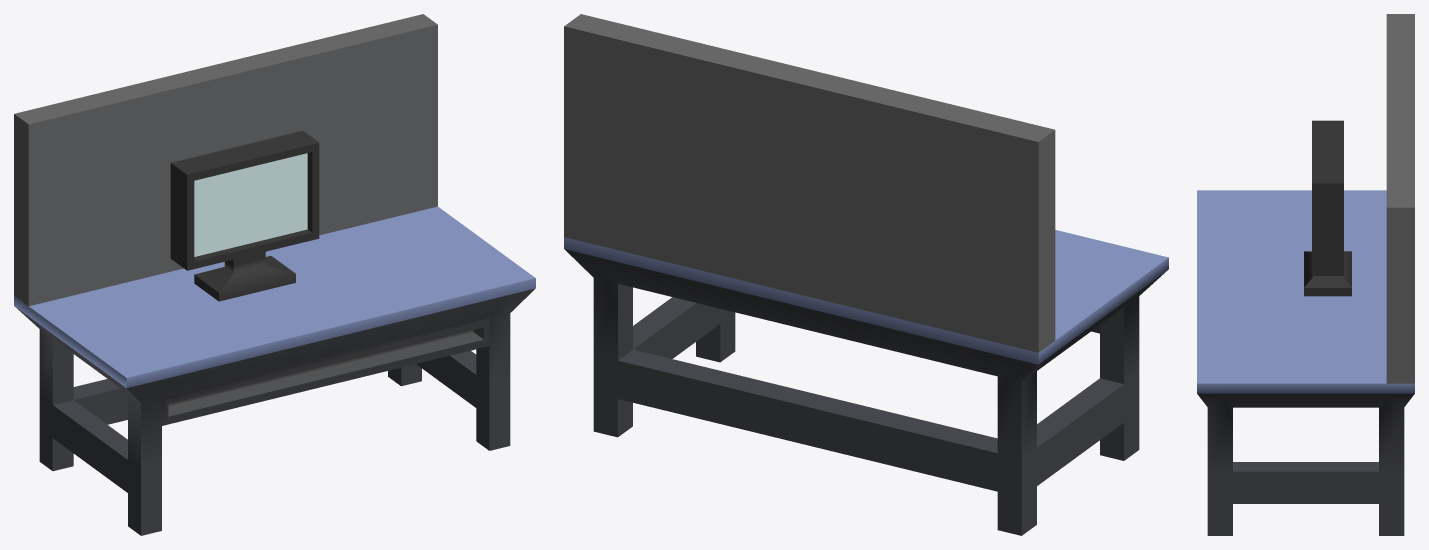
The model's file is ComputerDesk.fbx.
3 views of the same model, side by side, from view 1: azimuth 30°, elevation 25°; view 2: azimuth 150°, elevation 25°; view 3: azimuth 270°, elevation 25° (orthographic). The views are drawn at different scales.
Visible parts, largest first — view 1: ComputerDesk; view 2: ComputerDesk; view 3: ComputerDesk.
Part boxes in pixels (bbox=[...]): ComputerDesk: bbox=[14, 14, 535, 535]; ComputerDesk: bbox=[564, 14, 1168, 535]; ComputerDesk: bbox=[1197, 14, 1414, 535].
Bounding box in the file's own units: 228 × 185 × 108.
